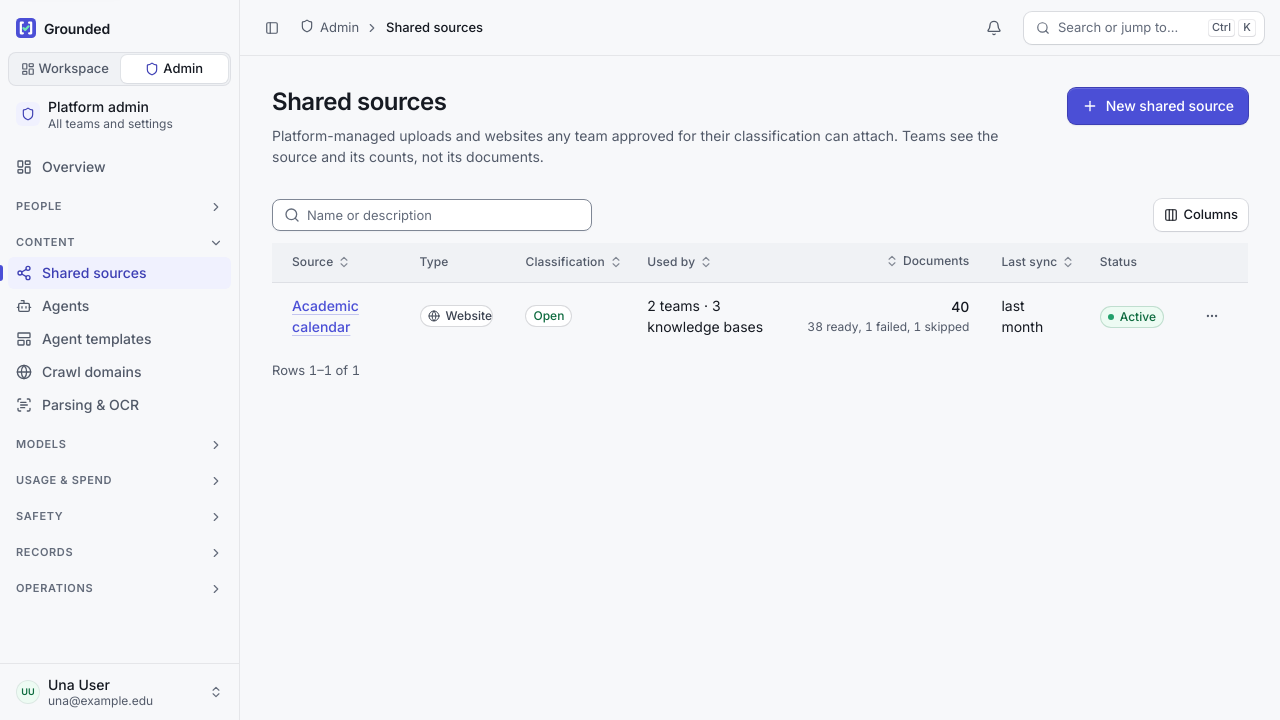
Scenario: admin catalog › lists where each shared source is used, by team and knowledge base (A6)
Expected: the text "2 teams · 3 knowledge bases" is shown, left=631, top=283, right=791, bottom=349
Click the button named "Actions for Academic calendar" at [1212, 316], box left=1196, top=300, right=1228, bottom=332
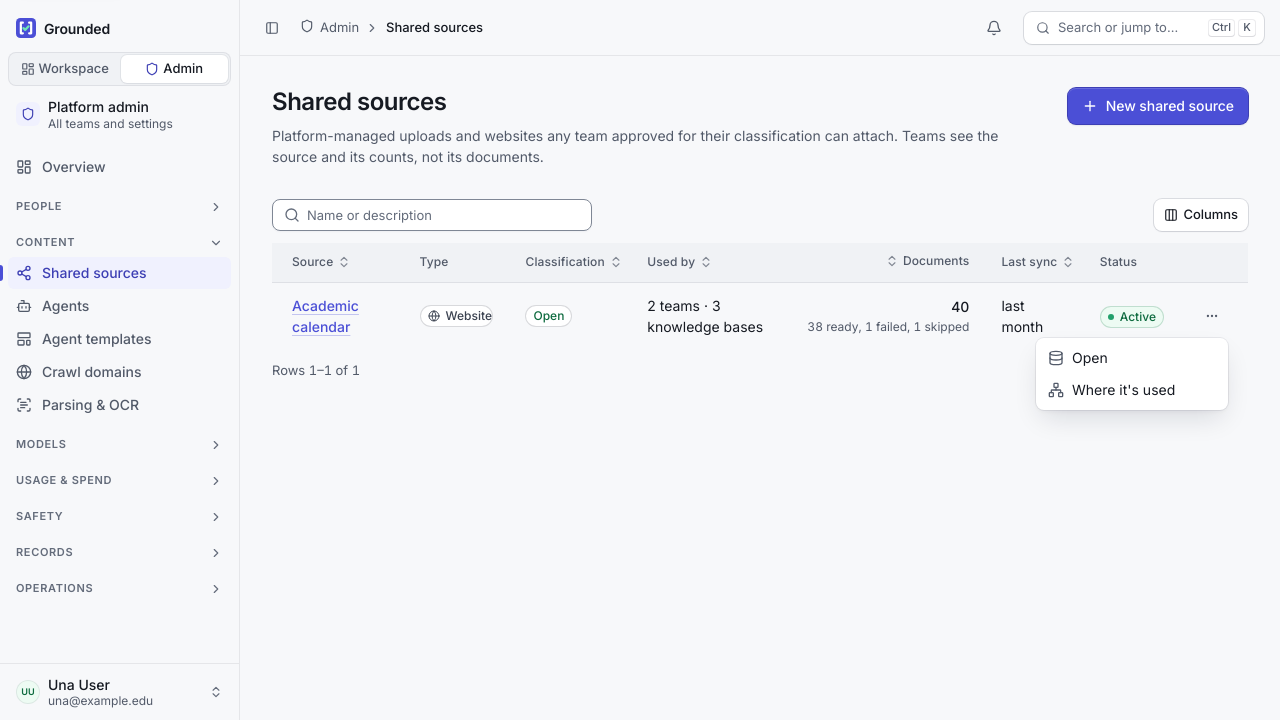
Click the menu item "Where it's used" at [1112, 390], box left=1048, top=381, right=1175, bottom=398
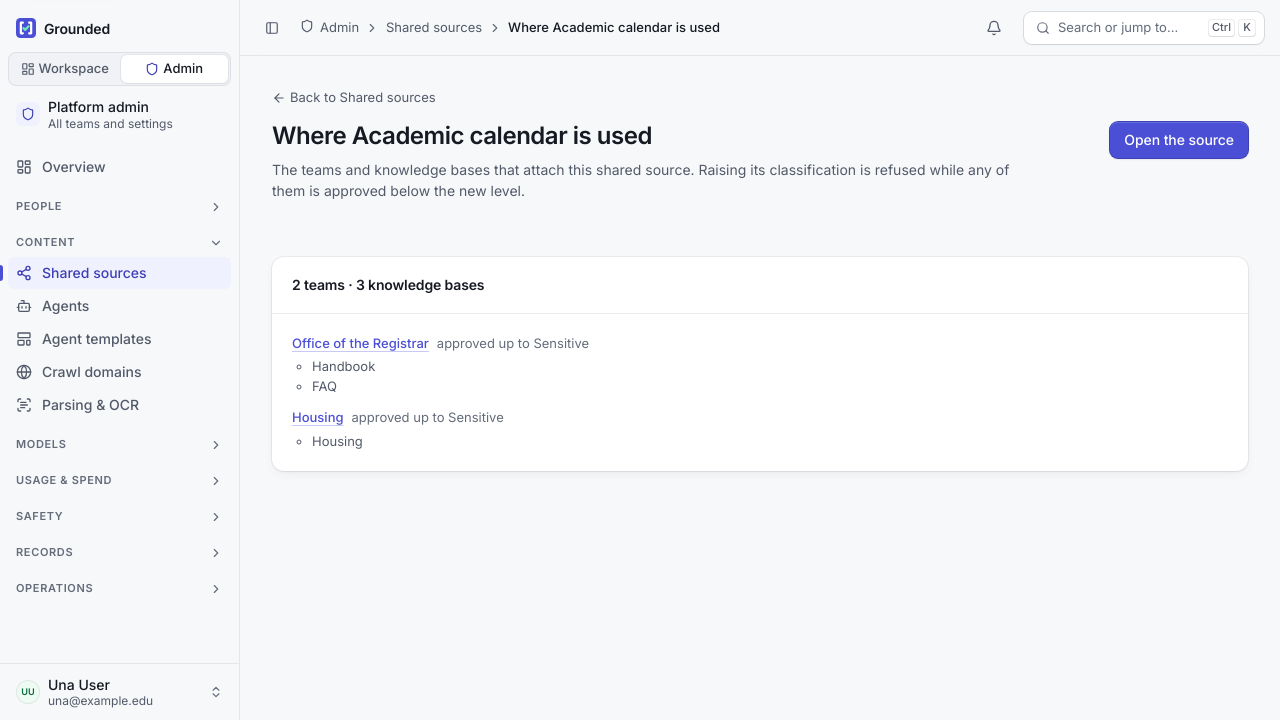
Expected: the list item "Handbook" is shown, left=312, top=358, right=375, bottom=374
Expected: the text "approved up to Sensitive" is shown 2 times, left=437, top=334, right=589, bottom=353; left=352, top=408, right=504, bottom=428
